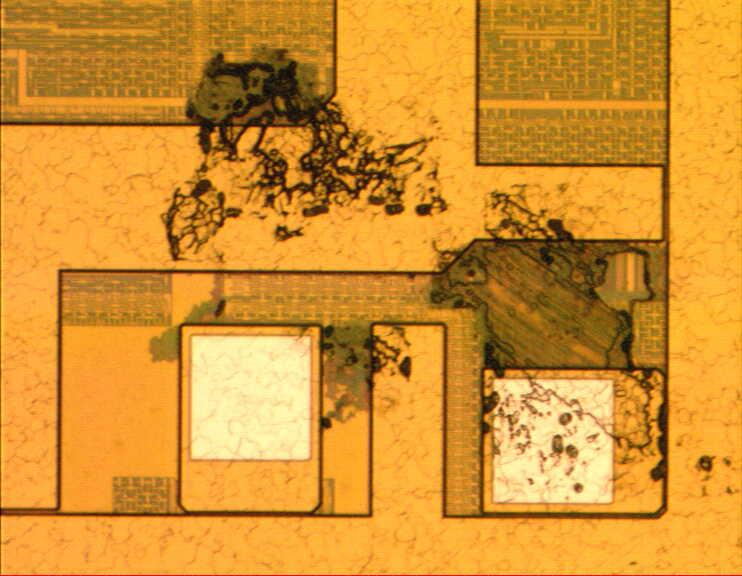SCRATCH: (143, 37, 742, 523)
